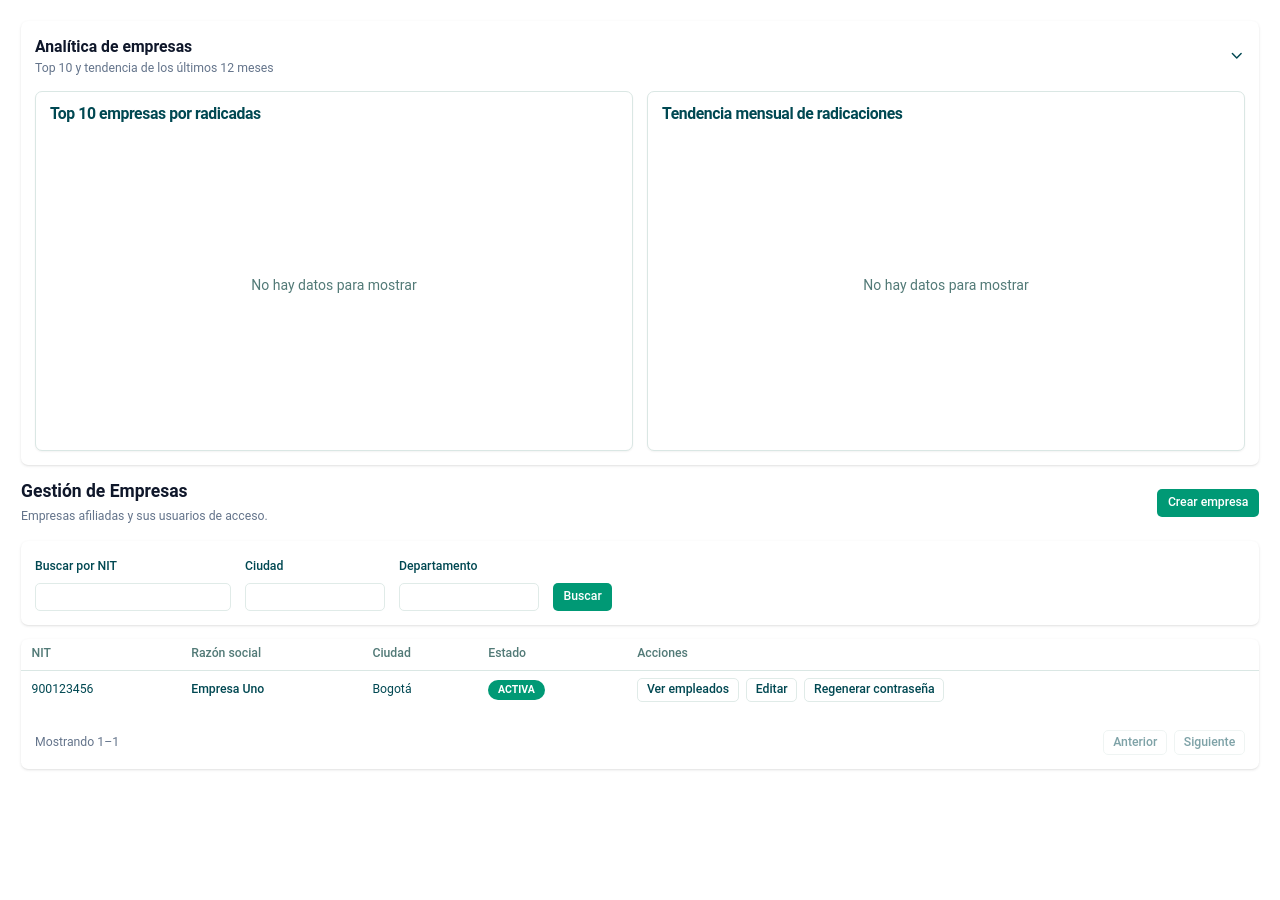
Test: EmpresasPage › does not send the update when the full empresa record fails to load, and shows an error instead
The width and height of the screenshot is (1280, 900).
Expected: the text "Empresa Uno" is shown, [181,670,362,709]
Click the button "Editar" at (772,690), box [746,678,797,702]
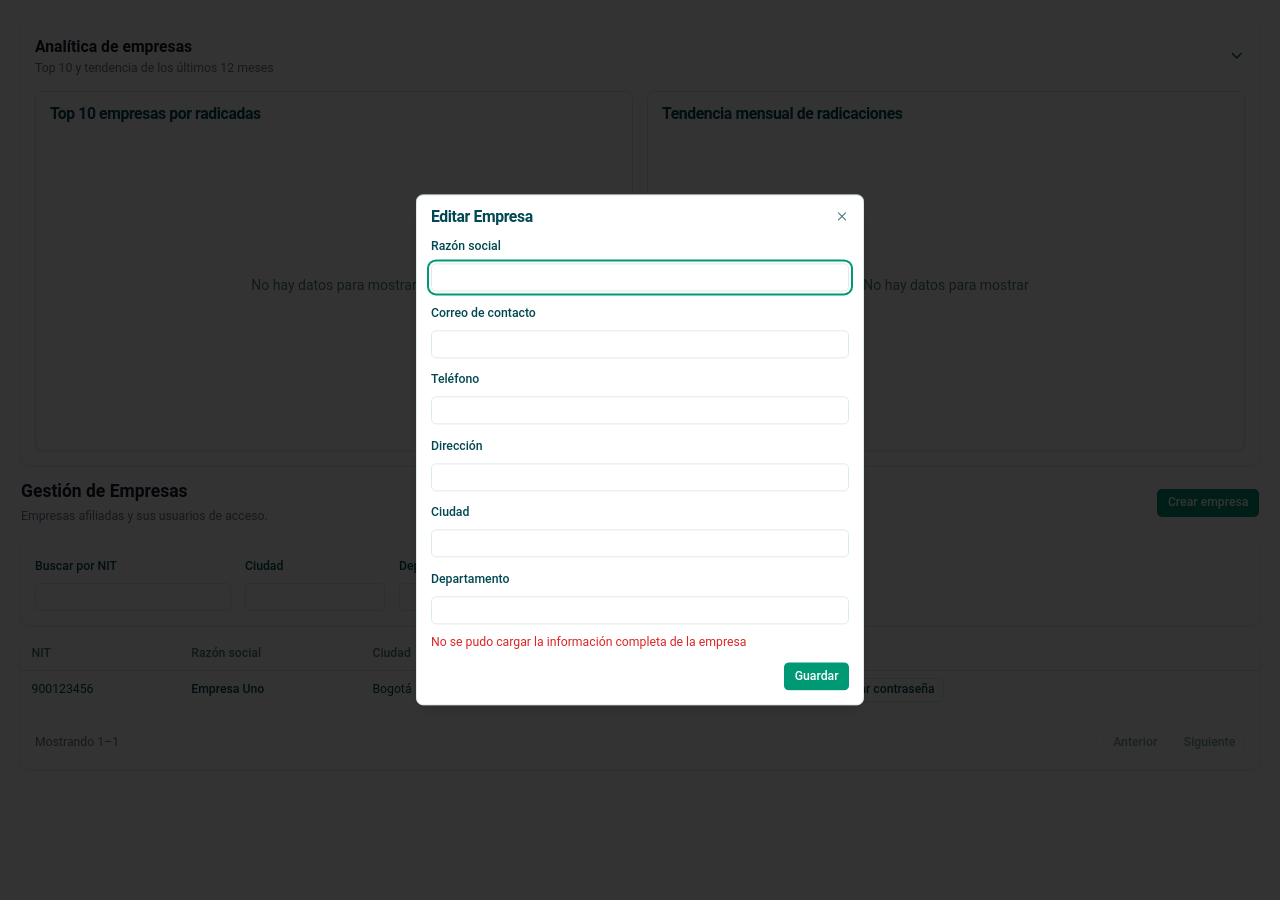
Expected: the text "No se pudo cargar la información completa de la empresa" is shown, [431,636,746,650]
